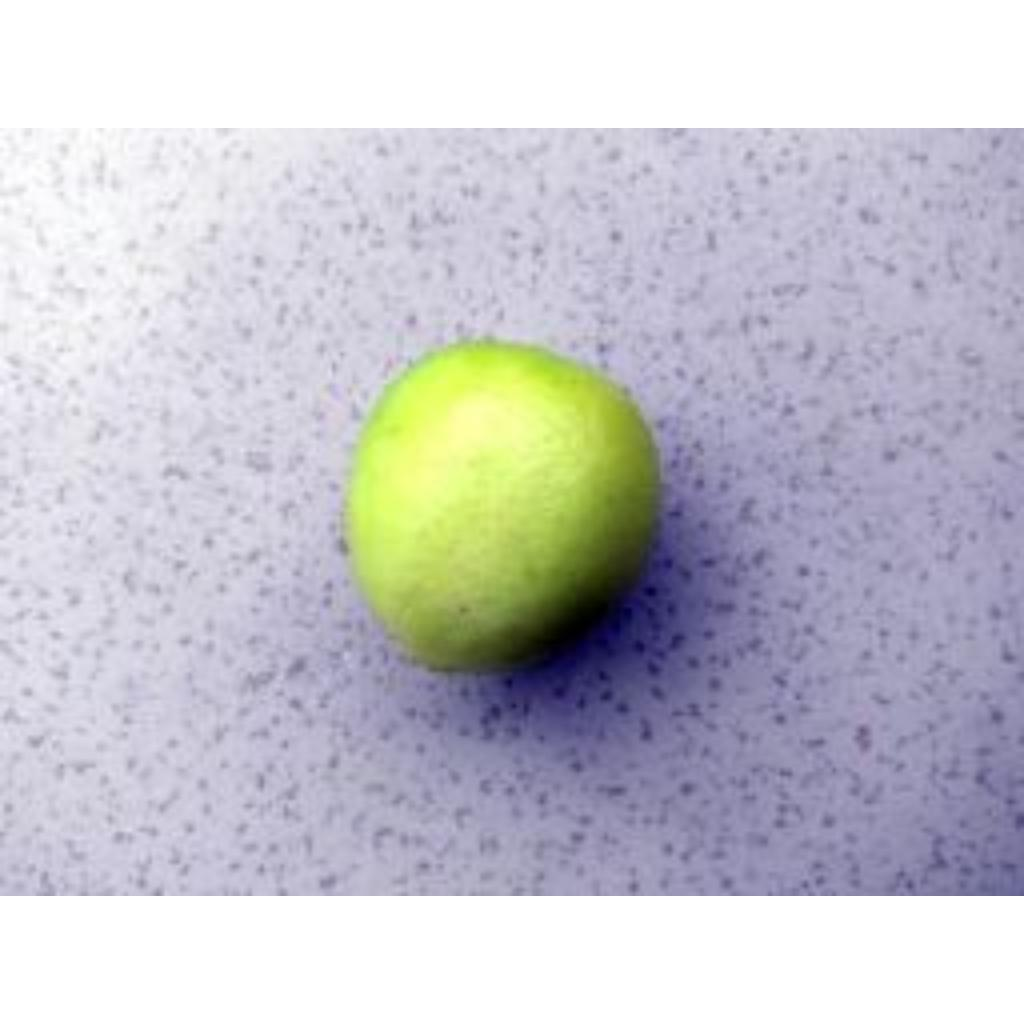lemon: (356, 340, 658, 669)
